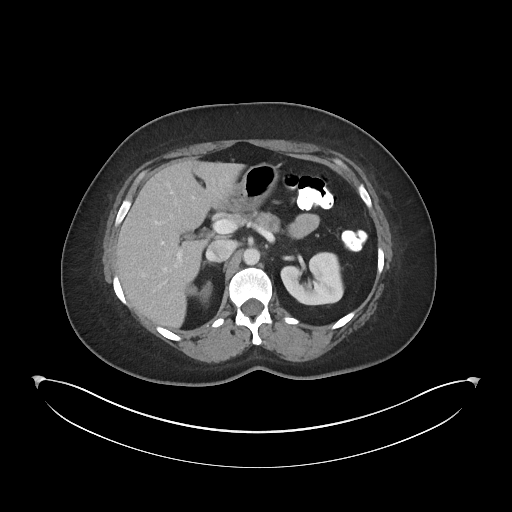Lesion: (188, 283, 201, 297)
